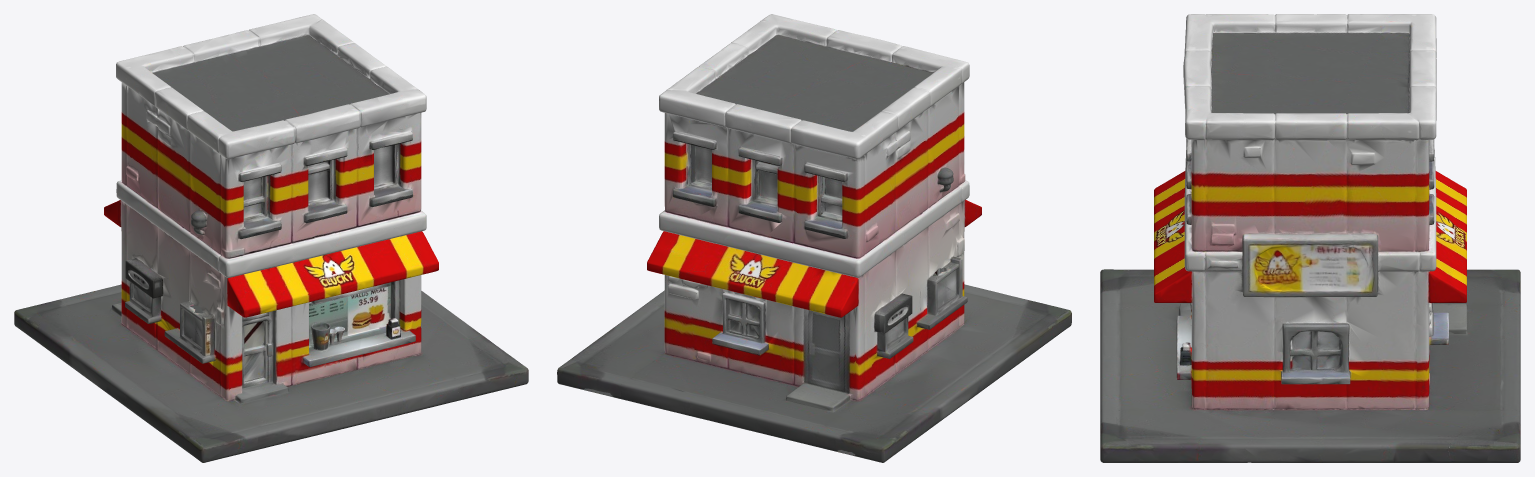
File: Building_A_Normal_Rival.glb
The picture shows the model from 3 angles, left to right: view 1: azimuth 30°, elevation 25°; view 2: azimuth 150°, elevation 25°; view 3: azimuth 270°, elevation 25°; orthographic projection. The views are drawn at different scales.
Bounding box in the file's own units: 1.9 × 1.54 × 1.9.
1 material, 1 textured.
